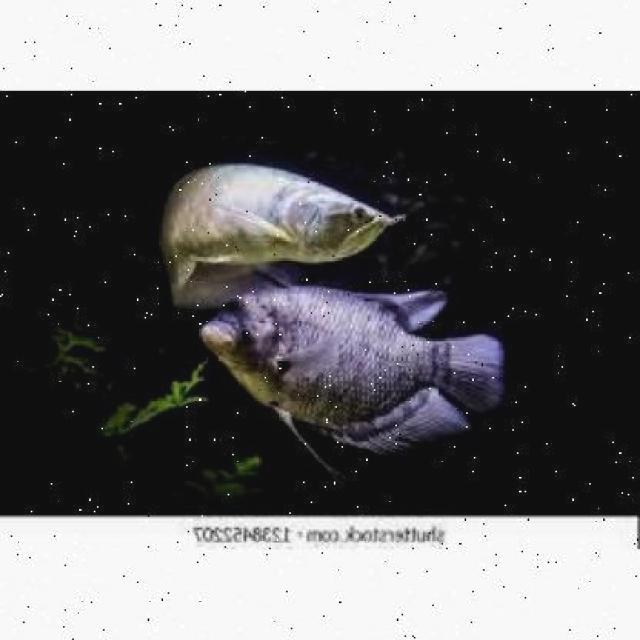gurame: (200, 284, 502, 460)
